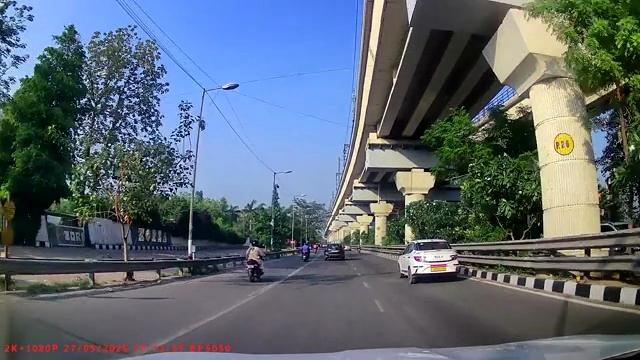motorcycle_with_helmet: (245, 238, 266, 283)
